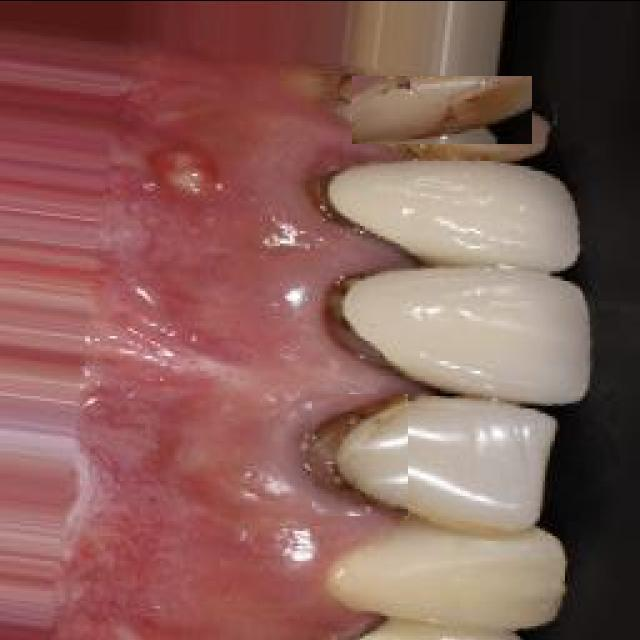decay: (353, 75, 533, 143), (312, 393, 408, 515), (328, 268, 393, 390), (318, 155, 388, 245)
